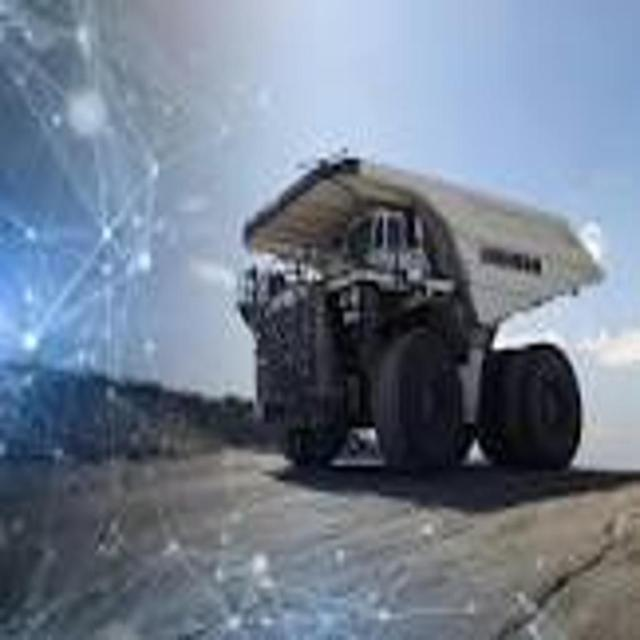dump_truck: (243, 137, 603, 492)
